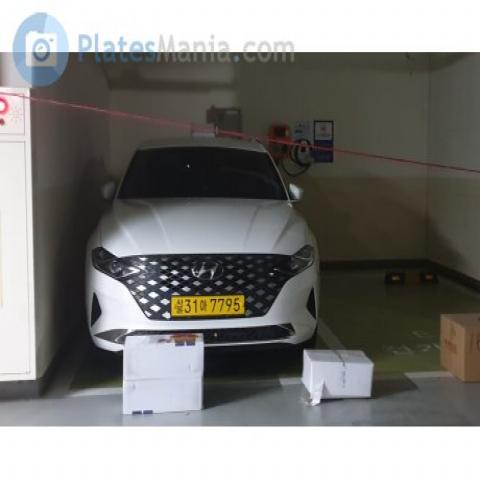LP: (166, 288, 253, 323)
